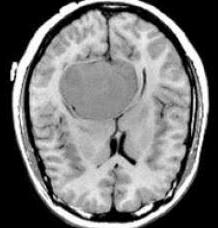Tumour-Meningioma: (51, 36, 158, 131)
